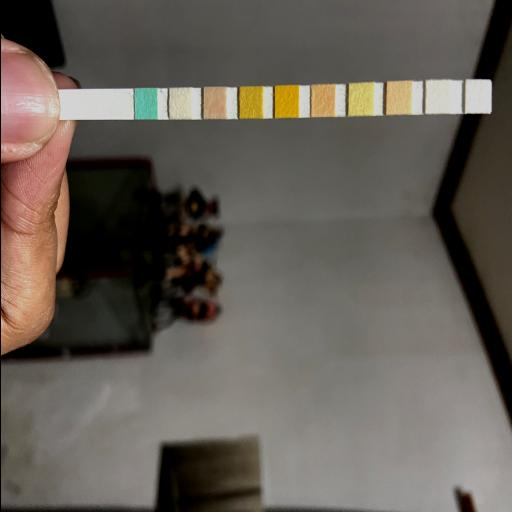Bilirubin: (168, 87, 190, 119)
Blood: (274, 86, 298, 118)
Glucose: (134, 88, 156, 119)
Ketone: (203, 87, 226, 119)
Leukocytes: (465, 80, 489, 114)
Nitrite: (424, 80, 450, 114)
Protein: (348, 84, 372, 116)
SpGravity: (238, 86, 262, 118)
Urobilinogen: (386, 82, 410, 114)
pH: (310, 84, 334, 116)
strip: (60, 79, 491, 119)
